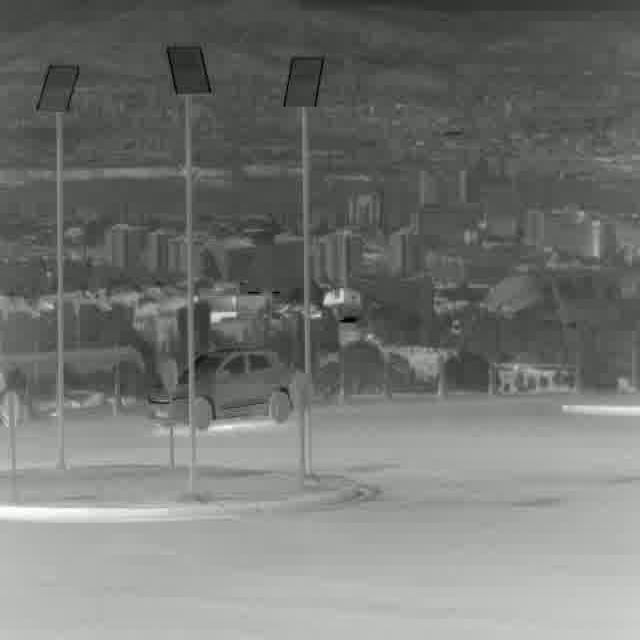Car: (144, 350, 292, 430)
